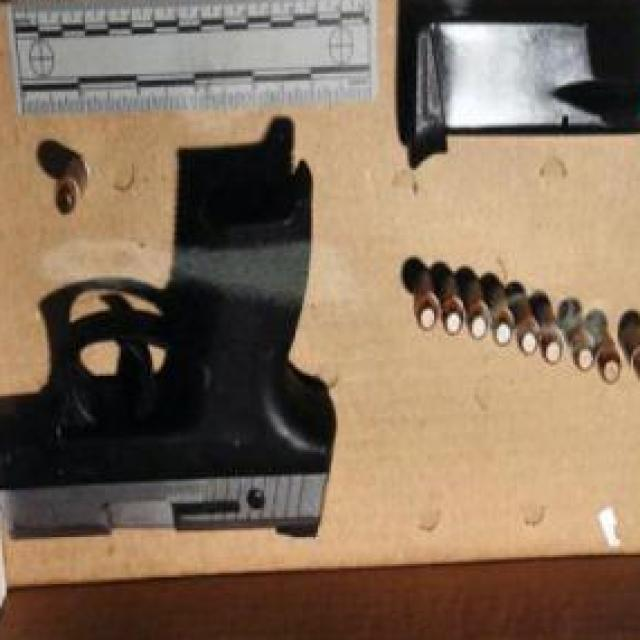pistol: (0, 166, 336, 542)
